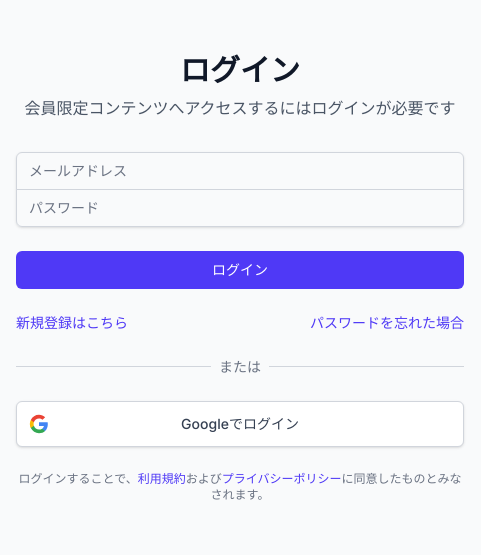
LoginPage › 読み込み中 › メール/パスワード認証で予期せぬエラーが発生した場合、エラーメッセージが表示される
In the field with placeholder "メールアドレス": (240, 170) [16,152,464,190], type "test@example.com"
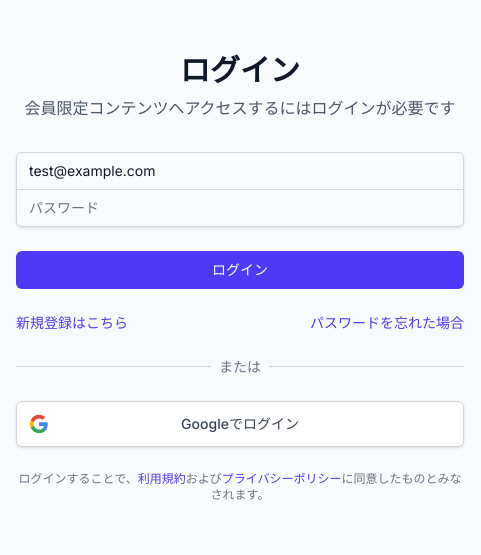
In the password field with placeholder "パスワード": (240, 208) [16,188,464,226], type "password123"
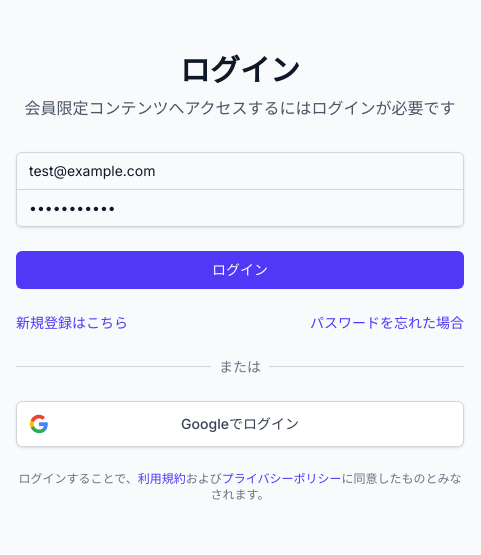
Click the button "ログイン": (240, 270) [16,250,464,288]
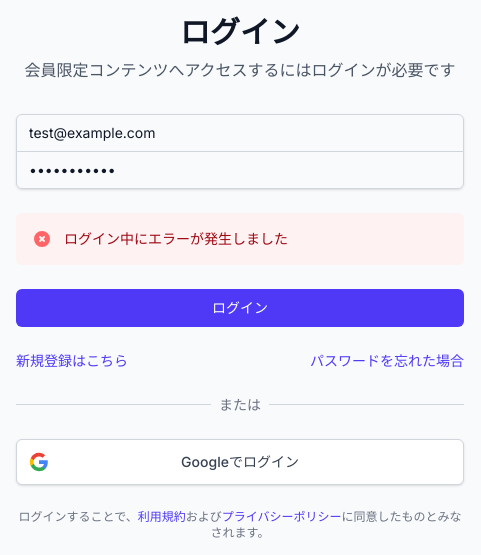
Expected: the text "ログイン中にエラーが発生しました" is shown, [64,228,288,248]
